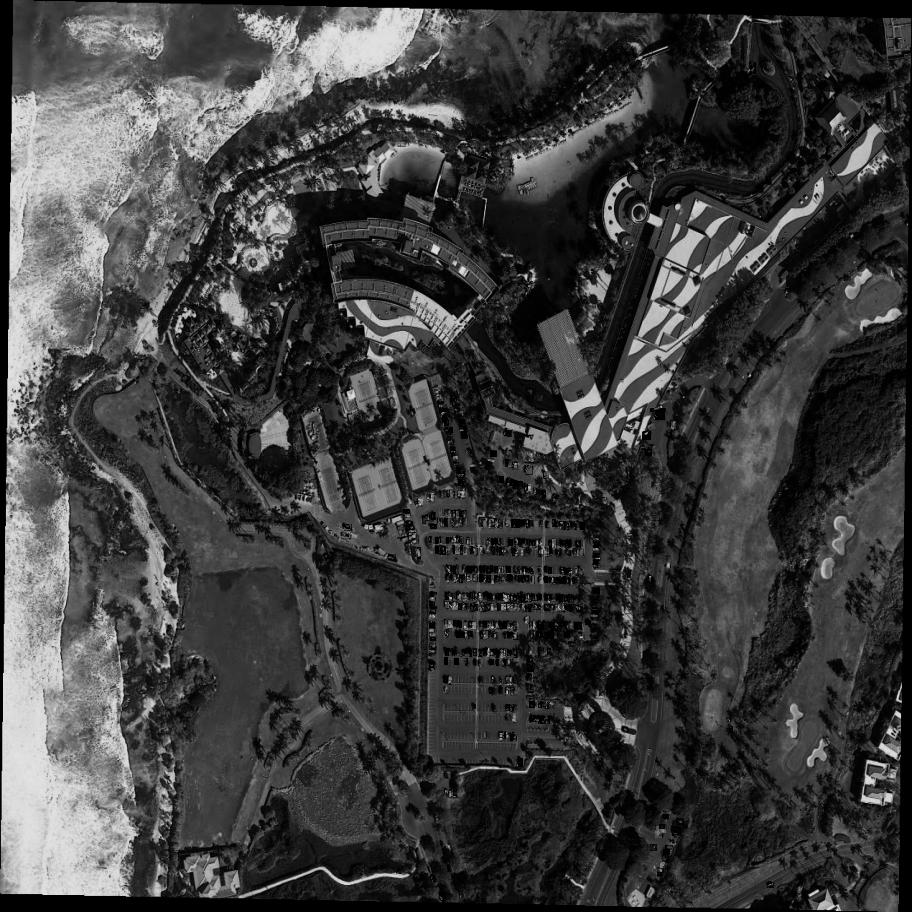large-vehicle: (655, 409, 667, 422), (650, 409, 662, 411)
ship: (751, 63, 756, 73)
small-vehicle: (455, 544, 463, 555), (643, 432, 652, 441), (732, 343, 741, 352), (666, 555, 672, 568), (453, 399, 462, 407), (388, 554, 397, 562), (410, 533, 419, 541), (526, 467, 534, 476), (677, 818, 686, 826), (645, 450, 654, 458), (656, 827, 666, 834), (657, 867, 665, 875), (662, 855, 670, 863), (674, 826, 682, 834), (656, 830, 664, 838), (430, 874, 437, 883), (466, 566, 473, 575), (724, 357, 731, 366), (786, 289, 793, 298), (341, 532, 351, 538), (529, 715, 537, 722), (529, 701, 536, 709), (434, 386, 442, 393), (344, 525, 352, 532), (411, 538, 419, 545), (458, 511, 465, 519), (490, 451, 498, 458), (541, 648, 547, 657), (518, 758, 524, 767), (506, 478, 512, 487), (491, 538, 497, 547), (487, 566, 493, 575), (543, 471, 549, 480), (512, 519, 518, 528), (580, 522, 586, 531), (574, 622, 580, 631), (560, 622, 566, 631), (460, 545, 465, 555), (462, 510, 467, 520), (541, 717, 548, 724), (549, 702, 556, 709), (446, 428, 453, 435), (439, 894, 446, 901), (650, 845, 657, 852), (509, 688, 515, 696), (506, 650, 512, 658), (456, 411, 464, 417), (455, 511, 461, 519), (429, 514, 435, 522), (560, 568, 566, 576), (647, 424, 655, 430), (566, 541, 572, 549), (525, 617, 531, 625), (456, 593, 462, 601), (559, 595, 565, 603), (506, 687, 511, 696), (566, 630, 571, 639), (465, 648, 470, 657), (407, 526, 416, 531), (499, 733, 504, 742), (448, 509, 453, 518), (453, 545, 458, 554), (463, 546, 468, 555), (536, 488, 541, 497), (511, 548, 516, 557), (663, 810, 672, 815), (539, 539, 544, 548), (556, 521, 561, 530), (549, 622, 554, 631), (473, 603, 478, 612), (470, 604, 475, 613), (483, 575, 488, 584), (521, 594, 526, 603), (417, 548, 421, 559), (546, 702, 552, 709), (443, 420, 450, 426), (448, 440, 455, 446), (451, 396, 458, 402), (508, 461, 514, 468), (431, 513, 437, 520), (768, 883, 775, 889), (566, 623, 572, 630), (429, 647, 437, 652), (444, 676, 449, 684), (479, 676, 484, 684), (429, 615, 437, 620), (478, 661, 483, 669), (538, 716, 543, 724), (538, 701, 543, 709), (513, 688, 518, 696), (527, 668, 535, 673), (455, 658, 460, 666), (469, 649, 474, 657), (456, 648, 461, 656), (449, 621, 454, 629), (455, 631, 460, 639), (408, 530, 416, 535), (444, 509, 449, 517), (436, 546, 441, 554), (505, 459, 510, 467), (510, 479, 515, 487), (508, 539, 513, 547), (663, 849, 671, 854), (672, 422, 677, 430), (491, 519, 496, 527), (499, 519, 504, 527), (543, 491, 548, 499), (493, 603, 498, 611), (569, 595, 574, 603), (592, 609, 600, 614), (446, 593, 451, 601), (503, 621, 508, 629), (453, 603, 458, 611), (455, 603, 460, 611), (521, 575, 526, 583), (525, 575, 530, 583), (544, 576, 549, 584), (569, 604, 574, 612), (500, 649, 504, 658), (440, 408, 446, 414), (513, 480, 517, 489), (455, 518, 459, 527), (505, 519, 509, 528), (516, 519, 520, 528), (447, 865, 452, 872), (489, 659, 494, 666), (530, 631, 535, 638), (578, 632, 585, 637), (578, 636, 585, 641), (585, 620, 592, 625), (465, 623, 470, 630), (479, 621, 484, 628), (547, 648, 552, 655), (458, 472, 465, 477), (403, 510, 410, 515), (418, 499, 423, 506), (512, 462, 517, 469), (593, 556, 600, 561), (563, 541, 568, 548), (576, 541, 581, 548), (508, 605, 513, 612), (518, 604, 523, 611), (459, 604, 464, 611), (457, 575, 462, 582), (487, 576, 492, 583), (446, 574, 451, 581), (474, 594, 479, 601), (504, 595, 509, 602), (507, 714, 511, 722), (552, 631, 556, 639), (483, 631, 487, 639), (459, 621, 463, 629), (473, 648, 477, 656), (529, 647, 533, 655), (449, 648, 453, 656), (445, 648, 449, 656), (443, 547, 447, 555), (515, 548, 519, 556), (549, 567, 553, 575), (495, 520, 499, 528), (546, 521, 550, 529), (510, 621, 514, 629), (430, 643, 436, 648), (535, 716, 540, 722), (503, 632, 508, 638), (438, 401, 444, 406), (500, 477, 505, 483), (431, 524, 437, 529), (593, 559, 599, 564), (501, 547, 506, 553), (659, 824, 665, 829), (656, 873, 662, 878), (445, 603, 450, 609), (532, 595, 537, 601), (499, 687, 503, 694), (548, 632, 552, 639), (579, 623, 583, 630), (459, 632, 463, 639), (456, 408, 463, 412), (461, 492, 465, 499), (526, 466, 530, 473), (580, 549, 584, 556), (453, 567, 457, 574), (494, 566, 498, 573), (507, 567, 511, 574), (527, 567, 531, 574), (727, 715, 731, 722), (527, 520, 531, 527), (529, 520, 533, 527), (528, 605, 532, 612), (544, 604, 548, 611), (562, 604, 566, 611), (576, 604, 580, 611), (591, 614, 598, 618), (466, 604, 470, 611), (459, 576, 463, 583), (479, 575, 483, 582), (501, 574, 505, 581), (508, 596, 512, 603), (513, 713, 516, 722), (456, 565, 459, 574), (553, 539, 556, 548), (537, 622, 540, 631), (542, 702, 547, 707), (429, 661, 435, 665), (449, 676, 452, 684), (507, 659, 511, 665), (527, 664, 533, 668), (510, 676, 513, 684), (514, 650, 517, 658), (560, 632, 564, 638), (490, 631, 493, 639), (513, 633, 517, 639), (545, 632, 549, 638), (592, 633, 598, 637), (480, 631, 483, 639), (503, 648, 506, 656), (538, 648, 541, 656), (483, 648, 486, 656), (465, 631, 468, 639), (437, 397, 443, 401), (461, 427, 467, 431), (460, 423, 466, 427), (406, 522, 412, 526), (474, 549, 478, 555), (453, 510, 456, 518), (458, 479, 464, 483), (426, 515, 430, 521), (451, 518, 454, 526), (459, 518, 462, 526), (490, 621, 493, 629), (566, 550, 570, 556), (499, 547, 502, 555), (564, 568, 568, 574), (471, 566, 474, 574), (480, 566, 483, 574), (487, 547, 491, 553), (529, 540, 533, 546), (673, 831, 679, 835), (663, 815, 669, 819), (540, 520, 544, 526), (563, 522, 566, 530), (555, 605, 559, 611), (594, 588, 600, 592), (480, 604, 483, 612), (513, 623, 516, 631), (563, 621, 566, 629), (555, 622, 558, 630), (530, 622, 533, 630), (491, 576, 494, 584), (529, 576, 532, 584), (562, 596, 566, 602), (525, 595, 529, 601), (545, 594, 549, 600), (556, 596, 560, 602), (514, 734, 517, 741), (546, 717, 549, 724), (445, 657, 448, 664), (545, 647, 548, 654), (510, 734, 513, 741), (508, 430, 511, 437), (457, 536, 460, 543), (460, 891, 463, 898), (525, 484, 528, 491), (528, 485, 531, 492), (444, 519, 447, 526), (556, 550, 559, 557), (574, 549, 577, 556), (577, 549, 580, 556), (463, 566, 466, 573), (730, 726, 733, 733), (665, 846, 672, 849), (668, 430, 671, 437), (519, 520, 522, 527), (553, 495, 556, 502), (567, 523, 570, 530), (491, 604, 494, 611), (522, 603, 525, 610), (500, 622, 503, 629), (540, 622, 543, 629), (567, 577, 570, 584), (497, 575, 500, 582), (540, 577, 543, 584), (560, 577, 563, 584), (484, 592, 487, 599), (519, 596, 522, 603), (548, 594, 551, 601), (429, 664, 434, 668), (430, 597, 435, 601), (473, 659, 477, 664), (511, 650, 515, 655), (490, 650, 494, 655), (434, 391, 439, 395), (448, 436, 452, 441), (453, 457, 458, 461), (450, 538, 454, 543), (458, 483, 463, 487), (593, 564, 598, 568), (519, 568, 523, 573), (661, 863, 665, 868), (560, 540, 564, 545), (551, 605, 555, 610), (431, 633, 437, 636), (527, 690, 533, 693), (554, 633, 557, 639), (473, 623, 476, 629), (469, 631, 472, 637), (463, 632, 466, 638), (436, 395, 442, 398), (458, 491, 461, 497), (459, 420, 465, 423), (504, 430, 507, 436), (540, 489, 542, 498), (526, 547, 529, 553), (594, 553, 600, 556), (594, 539, 600, 542), (498, 567, 501, 573), (523, 566, 526, 572), (537, 540, 540, 546), (493, 622, 496, 628), (531, 604, 534, 610), (487, 604, 490, 610), (551, 625, 554, 631), (546, 623, 549, 629), (542, 621, 544, 630), (463, 603, 466, 609), (454, 576, 457, 582), (474, 575, 477, 581), (518, 576, 521, 582), (449, 575, 452, 581), (514, 595, 517, 601), (553, 595, 556, 601), (503, 659, 505, 667), (495, 631, 497, 639), (497, 650, 499, 658), (440, 546, 442, 554), (522, 548, 524, 556), (539, 549, 541, 557), (449, 566, 451, 574), (495, 547, 497, 555), (576, 567, 578, 575), (505, 604, 507, 612), (484, 604, 486, 612), (572, 605, 574, 613), (572, 596, 574, 604), (571, 621, 573, 629), (532, 576, 534, 584), (454, 593, 456, 601), (470, 593, 472, 601), (444, 685, 447, 690), (430, 610, 435, 613), (528, 659, 533, 662), (506, 705, 509, 710), (457, 621, 460, 626), (452, 650, 455, 655), (507, 733, 510, 738), (442, 413, 447, 416), (450, 448, 455, 451), (461, 432, 466, 435), (405, 514, 410, 517), (443, 491, 446, 496), (446, 538, 449, 543), (514, 463, 517, 468), (515, 539, 518, 544), (522, 539, 525, 544), (475, 567, 478, 572), (602, 498, 607, 501), (565, 596, 568, 601), (491, 595, 494, 600), (539, 594, 542, 599), (466, 658, 468, 665), (493, 688, 495, 695), (591, 637, 598, 639), (479, 650, 481, 657), (428, 495, 430, 502), (432, 494, 434, 501), (517, 481, 519, 488), (520, 481, 522, 488), (534, 488, 536, 495), (438, 518, 440, 525), (484, 621, 486, 628), (488, 621, 490, 628), (559, 549, 561, 556), (519, 538, 521, 545), (483, 566, 485, 573), (493, 548, 495, 555), (650, 577, 652, 584), (522, 520, 524, 527), (575, 523, 577, 530), (468, 575, 470, 582), (512, 575, 514, 582), (494, 594, 496, 601), (502, 593, 504, 600), (512, 595, 514, 602), (429, 651, 435, 653), (430, 639, 436, 641), (429, 622, 435, 624), (430, 593, 436, 595), (493, 677, 495, 683), (500, 678, 502, 684), (511, 706, 513, 712), (507, 678, 510, 682), (537, 631, 539, 637), (540, 631, 542, 637), (493, 649, 495, 655), (488, 649, 490, 655), (449, 630, 451, 636), (503, 733, 505, 739), (443, 418, 447, 421), (467, 450, 471, 453), (455, 463, 459, 466), (457, 467, 460, 471), (458, 475, 464, 477), (436, 538, 438, 544), (467, 539, 469, 545), (471, 547, 473, 553), (423, 517, 425, 523), (550, 547, 552, 553), (498, 538, 500, 544), (505, 548, 507, 554), (533, 540, 535, 546), (446, 566, 448, 572), (514, 567, 517, 571), (539, 568, 541, 574), (481, 548, 483, 554), (550, 541, 552, 547), (480, 520, 482, 526), (489, 520, 491, 526), (553, 520, 555, 526), (571, 578, 573, 584), (511, 606, 514, 610), (515, 605, 517, 611), (525, 606, 527, 612), (535, 605, 538, 609), (548, 604, 550, 610), (565, 604, 567, 610), (580, 606, 582, 612), (508, 623, 510, 629), (504, 576, 506, 582), (464, 595, 466, 601), (467, 594, 469, 600), (529, 595, 531, 601), (536, 595, 538, 601), (430, 625, 435, 627), (514, 706, 516, 711), (490, 688, 492, 693), (527, 678, 532, 680), (445, 621, 447, 626), (463, 436, 468, 438), (447, 491, 449, 496), (416, 499, 418, 504), (454, 537, 456, 542), (461, 538, 463, 543), (449, 792, 451, 797), (445, 773, 447, 778), (594, 549, 599, 551), (594, 546, 599, 548), (594, 543, 599, 545), (525, 539, 527, 544), (545, 567, 547, 572), (531, 568, 533, 573), (502, 605, 504, 610), (593, 607, 598, 609), (497, 623, 499, 628), (508, 575, 510, 580), (513, 576, 515, 581), (459, 595, 461, 600), (488, 593, 490, 598), (642, 447, 645, 450), (570, 521, 571, 530), (430, 630, 434, 632), (430, 603, 434, 605), (430, 600, 434, 602), (474, 705, 476, 709), (528, 686, 532, 688), (511, 632, 513, 636), (452, 452, 456, 454), (454, 460, 458, 462), (578, 522, 579, 530), (534, 622, 535, 630), (495, 576, 497, 580), (553, 578, 555, 582), (479, 594, 481, 598), (497, 659, 498, 666), (487, 631, 488, 638), (454, 491, 455, 498), (570, 569, 571, 576), (491, 566, 492, 573), (561, 522, 562, 529), (450, 594, 451, 601), (430, 636, 436, 637), (428, 669, 434, 670), (431, 607, 437, 608), (564, 632, 565, 638), (471, 622, 472, 628), (445, 629, 446, 635), (440, 406, 443, 408), (447, 547, 448, 553), (440, 537, 441, 543), (445, 791, 446, 797), (453, 790, 454, 796), (559, 605, 560, 611), (499, 594, 500, 600), (508, 632, 509, 637), (535, 632, 536, 637), (453, 621, 454, 626), (463, 650, 464, 655), (440, 492, 441, 497), (430, 537, 431, 542), (485, 733, 486, 738), (487, 539, 488, 544), (497, 539, 498, 544), (574, 578, 575, 583), (540, 605, 541, 610), (449, 602, 450, 607), (464, 575, 465, 580), (471, 575, 472, 580), (564, 577, 565, 582), (430, 586, 434, 587), (528, 675, 532, 676), (546, 552, 547, 556), (502, 568, 503, 572), (550, 578, 551, 582), (557, 578, 558, 582), (442, 520, 442, 526), (498, 604, 498, 611), (599, 593, 599, 593)
